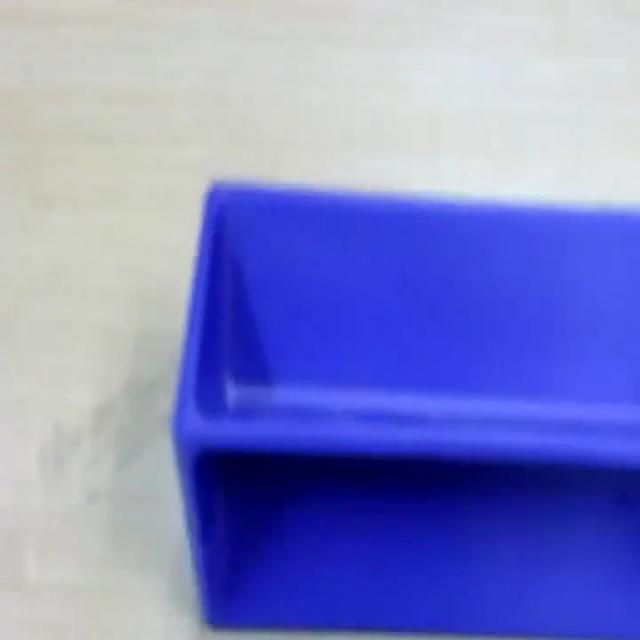blue_block: (171, 176, 639, 635)
